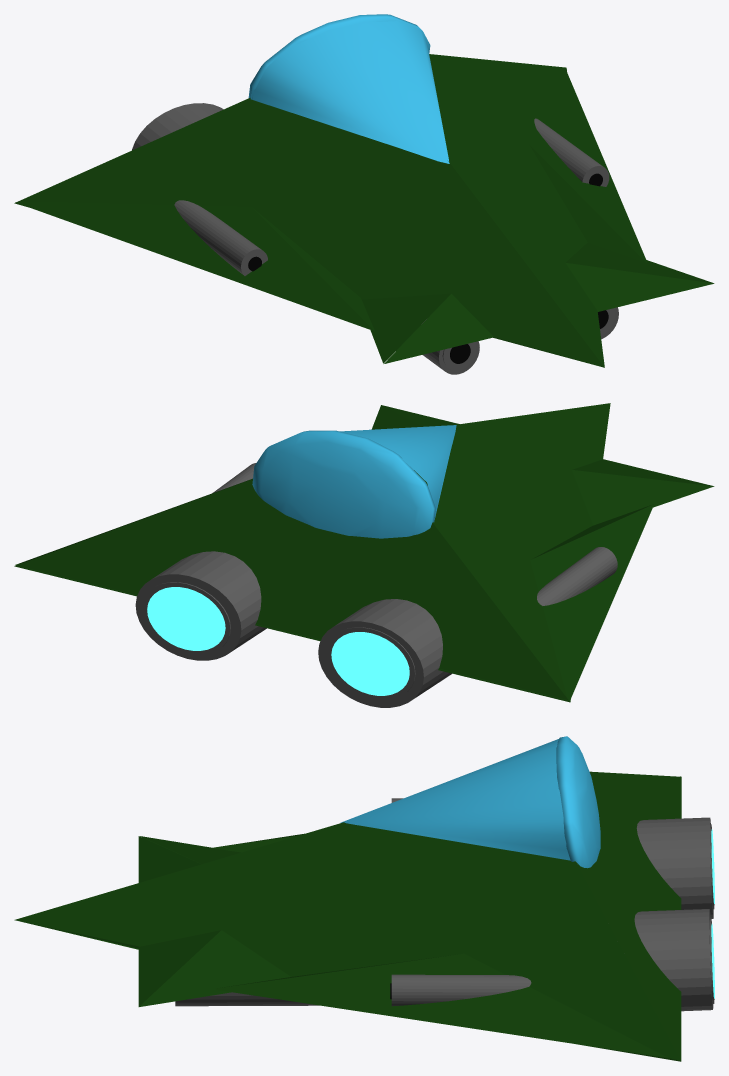
File: NaveVerdeV4.fbx
The picture shows the model from 3 angles, top to bottom: view 1: azimuth 30°, elevation 25°; view 2: azimuth 150°, elevation 25°; view 3: azimuth 270°, elevation 25°; orthographic projection. The views are drawn at different scales.
Visible parts, largest first — view 1: Plane.001, Cone, Plane.004, Plane.003, Cylinder.002, Cylinder, Cylinder.003, Mball; view 2: Plane.001, Mball, Plane.004, Cylinder.001, Cylinder, Cylinder.013, Cylinder.012, Cone, Cylinder.002, Cylinder.014, Cylinder.015; view 3: Plane.001, Plane.003, Cone, Cylinder.001, Cylinder, Mball, Cylinder.003, Cylinder.004, Plane.004.
Boxes of the visible parts, left/top/right/bottom form: Plane.001: left=14, top=54, right=714, bottom=367; Cone: left=250, top=20, right=449, bottom=163; Plane.004: left=15, top=201, right=374, bottom=331; Plane.003: left=529, top=73, right=647, bottom=262; Cylinder.002: left=174, top=200, right=267, bottom=275; Cylinder: left=132, top=103, right=223, bottom=150; Cylinder.003: left=534, top=118, right=609, bottom=186; Mball: left=248, top=14, right=430, bottom=99; Plane.001: left=14, top=403, right=714, bottom=702; Mball: left=252, top=430, right=435, bottom=538; Plane.004: left=291, top=504, right=654, bottom=701; Cylinder.001: left=135, top=551, right=266, bottom=660; Cylinder: left=318, top=599, right=451, bottom=707; Cylinder.013: left=331, top=632, right=409, bottom=695; Cylinder.012: left=147, top=587, right=225, bottom=650; Cone: left=340, top=425, right=456, bottom=519; Cylinder.002: left=537, top=547, right=617, bottom=605; Cylinder.014: left=141, top=582, right=230, bottom=654; Cylinder.015: left=326, top=627, right=415, bottom=699; Plane.001: left=14, top=771, right=681, bottom=1061; Plane.003: left=215, top=953, right=680, bottom=1060; Cone: left=340, top=739, right=570, bottom=860; Cylinder.001: left=634, top=909, right=713, bottom=1011; Cylinder: left=636, top=817, right=713, bottom=918; Mball: left=556, top=736, right=600, bottom=868; Cylinder.003: left=391, top=974, right=531, bottom=1006; Cylinder.004: left=175, top=992, right=319, bottom=1006; Plane.004: left=212, top=776, right=680, bottom=909.
Bounding box in the file's own units: 601 × 268 × 624.
